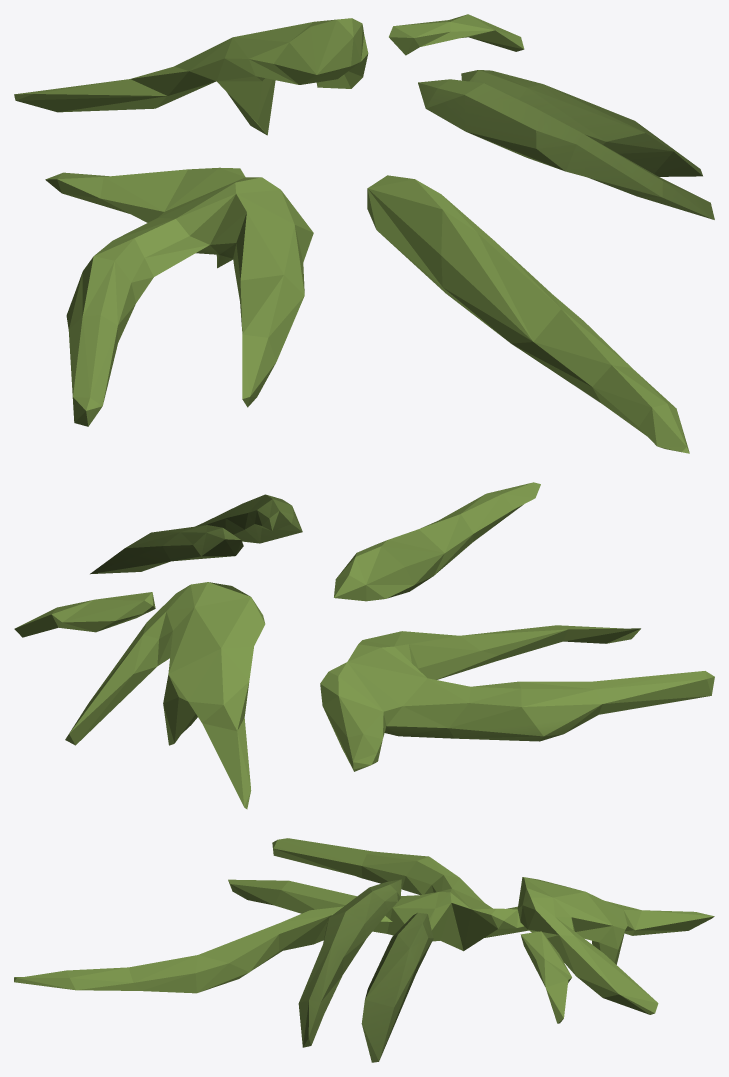
File: Jungle_Roots_B_Grass.fbx
3 views of the same model, one above another, from view 1: azimuth 30°, elevation 25°; view 2: azimuth 150°, elevation 25°; view 3: azimuth 270°, elevation 25° (orthographic). The views are drawn at different scales.
Parts seen in each view (by area): view 1: Jungle_Roots_B_Grass; view 2: Jungle_Roots_B_Grass; view 3: Jungle_Roots_B_Grass.
Boxes of the visible parts, left/top/right/bottom form: Jungle_Roots_B_Grass: left=14, top=14, right=714, bottom=453; Jungle_Roots_B_Grass: left=14, top=482, right=714, bottom=809; Jungle_Roots_B_Grass: left=14, top=838, right=714, bottom=1062.
Size of the model in its own units: 5.28 by 1.34 by 6.78.
Materials: 1 (1 with a texture image).
